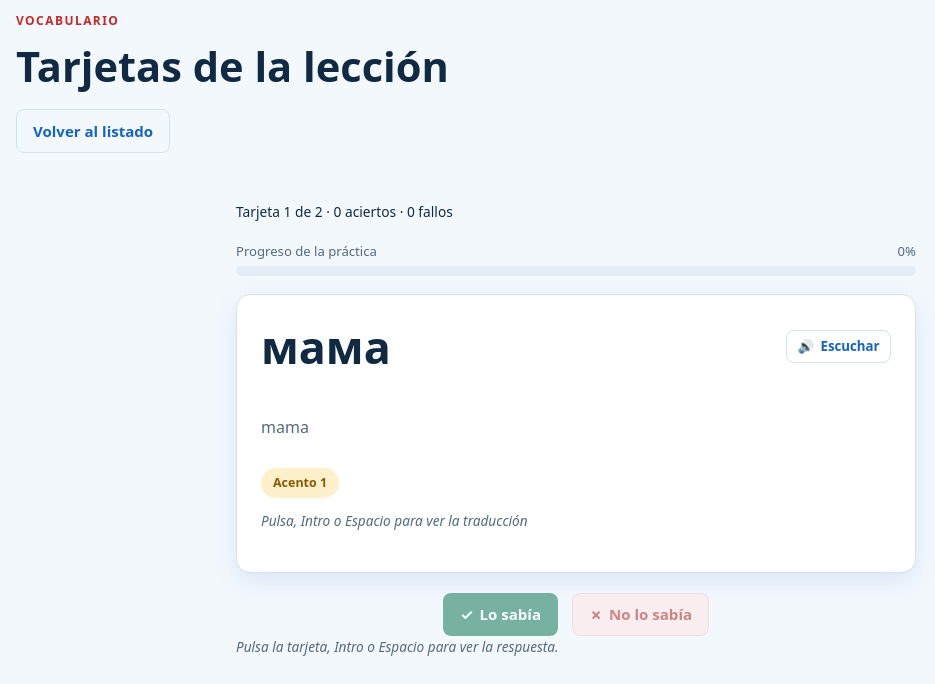
práctica de todas las tarjetas de la lección › registra aciertos y fallos y muestra el resumen al terminar
Press Enter in the button with aria-label "tarjeta: мама", box [236,294,916,572]
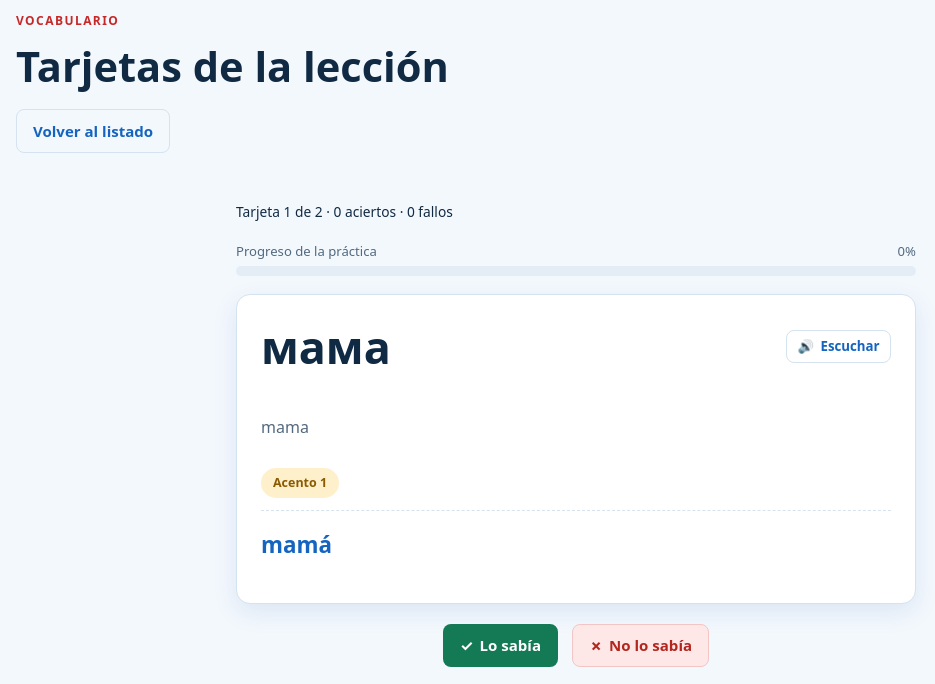
expect the button with aria-label "Lo sabía: subir de caja" is enabled: met
Click the button with aria-label "Lo sabía: subir de caja".
click(500, 645)  # box [443,624,558,667]
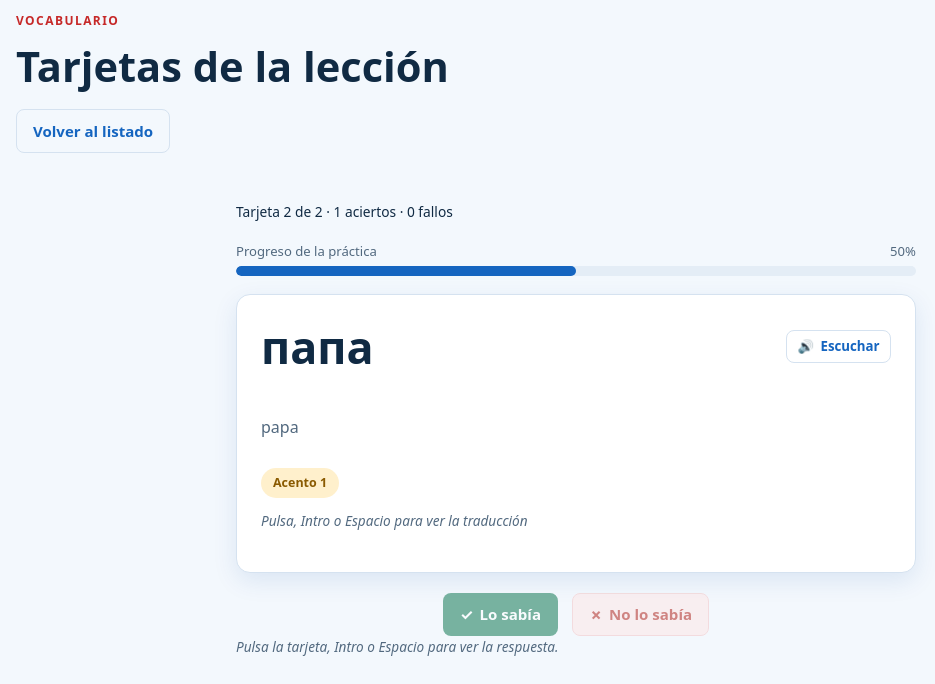
Press Enter in the button with aria-label "tarjeta: папа", box [236,294,916,572]
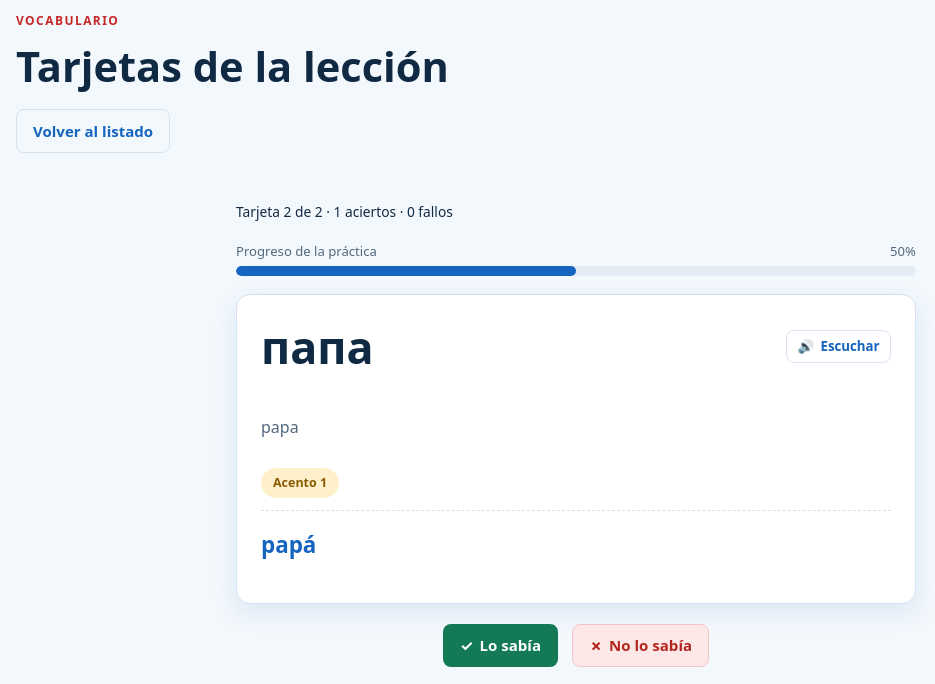
expect the button with aria-label "No lo sabía: volver a la caja 1" is enabled: met
Click the button with aria-label "No lo sabía: volver a la caja 1".
click(641, 645)  # box [572,624,709,667]
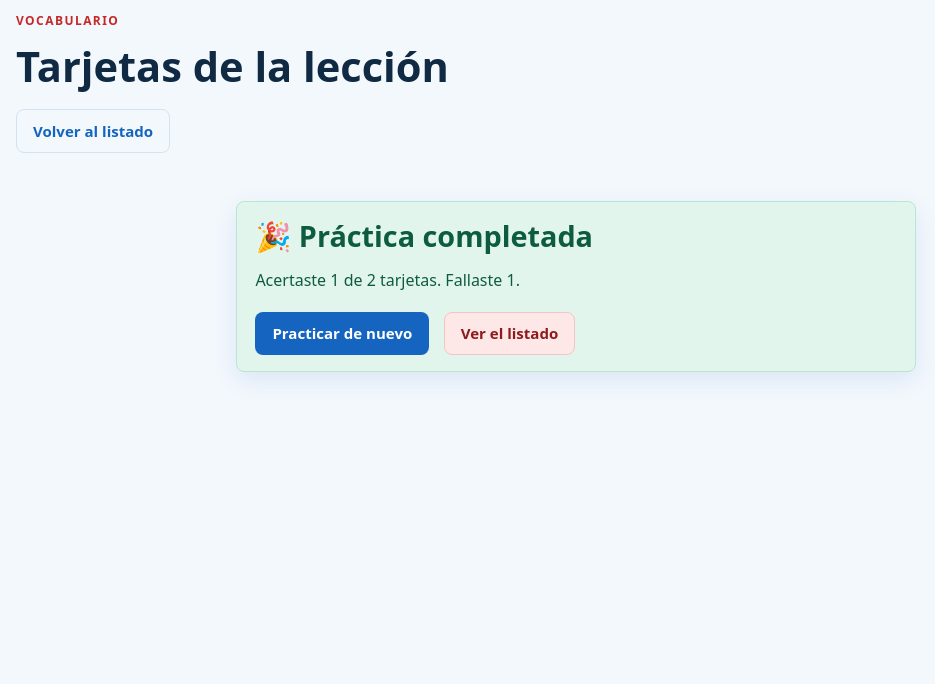
expect the heading "🎉 Práctica completada" is shown: met, box [255,216,593,255]
expect the text "Acertaste 1 de 2 tarjetas. Fallaste 1." is shown: met, box [255,269,520,291]
